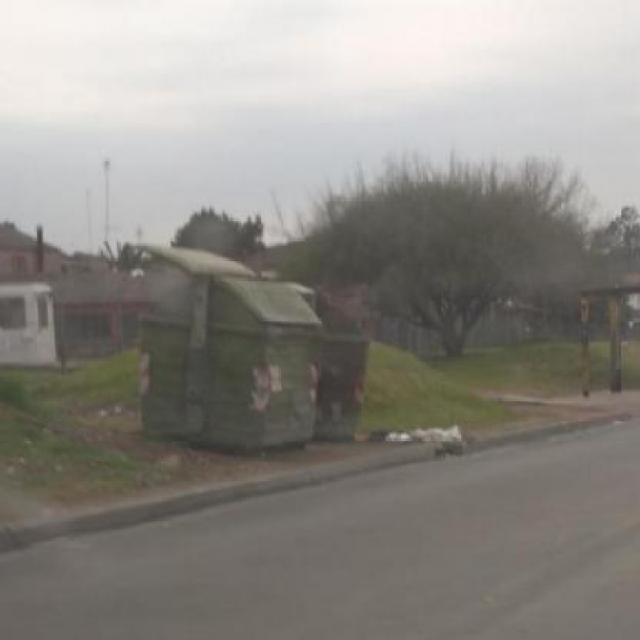garbage: (331, 418, 488, 456)
